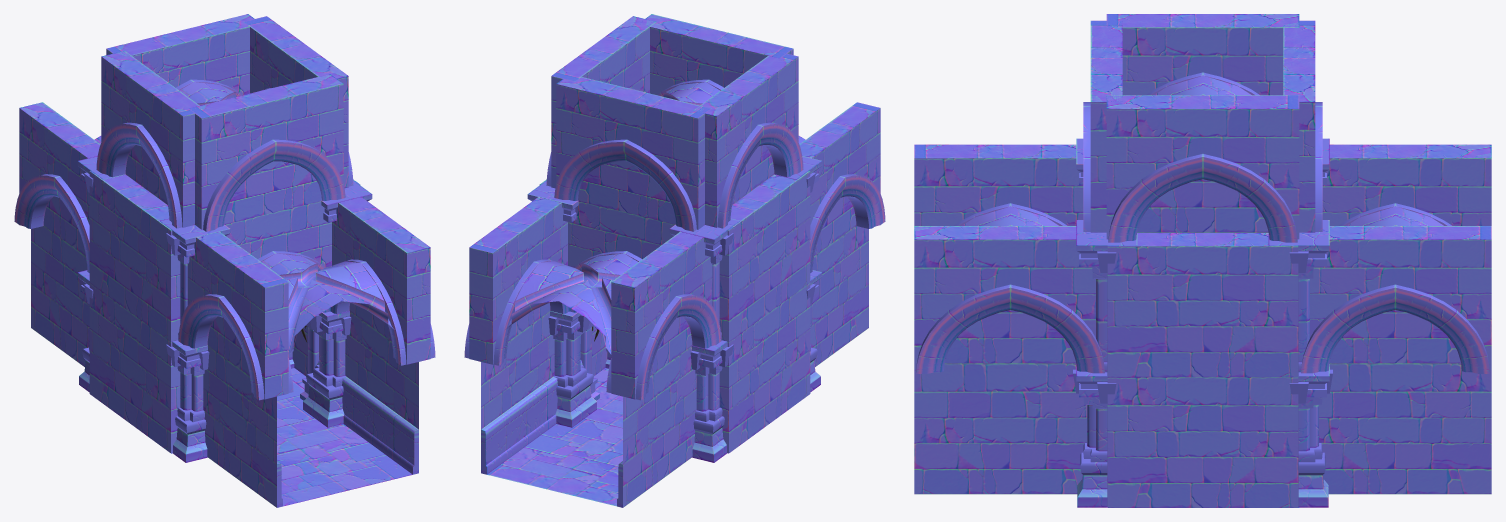
File: FP_Room_01.fbx
3 renders of one model, left to right at view 1: azimuth 30°, elevation 25°; view 2: azimuth 150°, elevation 25°; view 3: azimuth 270°, elevation 25°, orthographic. The views are drawn at different scales.
Visible parts, largest first — view 1: Wall_Niche_01, Arch_05, Arch_04__1_, Arch_04__2_, Arch_04__4_, FP_Wall_03, FP_Wall_03__2_, Arch_04, FP_Wall_03__1_, Floor_01__2_, Arch_05__1_, Ceiling_04 (+12 smaller); view 2: Wall_Niche_01, Arch_05__1_, Arch_04, Arch_04__2_, Arch_04__3_, FP_Wall_03__1_, FP_Wall_03__3_, Arch_04__1_, FP_Wall_03, Floor_01__1_, Arch_05, Ceiling_04__1_ (+12 smaller); view 3: Wall_Niche_01__1_, FP_Wall_03__2_, FP_Wall_03__3_, Arch_04__5_, Arch_04__3_, Arch_04__4_, Arch_04, Arch_04__1_, Arch_04__2_, Wall_03__1_, Arch_05, Arch_05__1_ (+9 smaller).
Boxes of the visible parts, bbox=[...] form: Wall_Niche_01: bbox=[89, 171, 180, 453]; Arch_05: bbox=[188, 74, 343, 312]; Arch_04__1_: bbox=[178, 231, 293, 400]; Arch_04__2_: bbox=[96, 51, 200, 228]; Arch_04__4_: bbox=[330, 197, 435, 365]; FP_Wall_03: bbox=[203, 316, 282, 507]; FP_Wall_03__2_: bbox=[342, 303, 418, 474]; Arch_04: bbox=[14, 102, 100, 272]; FP_Wall_03__1_: bbox=[31, 196, 89, 366]; Floor_01__2_: bbox=[277, 418, 412, 506]; Arch_05__1_: bbox=[106, 14, 255, 95]; Ceiling_04: bbox=[261, 253, 394, 354]; Wall_Niche_01: bbox=[719, 171, 810, 453]; Arch_05__1_: bbox=[556, 77, 711, 312]; Arch_04: bbox=[606, 231, 721, 400]; Arch_04__2_: bbox=[693, 52, 803, 228]; Arch_04__3_: bbox=[464, 197, 569, 365]; FP_Wall_03__1_: bbox=[617, 316, 696, 507]; FP_Wall_03__3_: bbox=[481, 303, 557, 474]; Arch_04__1_: bbox=[799, 102, 885, 272]; FP_Wall_03: bbox=[810, 196, 868, 366]; Floor_01__1_: bbox=[487, 418, 622, 506]; Arch_05: bbox=[641, 14, 793, 95]; Ceiling_04__1_: bbox=[505, 253, 638, 354]; Wall_Niche_01__1_: bbox=[1106, 233, 1299, 507]; FP_Wall_03__2_: bbox=[914, 310, 1086, 494]; FP_Wall_03__3_: bbox=[1319, 310, 1491, 494]; Arch_04__5_: bbox=[1106, 95, 1299, 242]; Arch_04__3_: bbox=[1301, 226, 1491, 373]; Arch_04__4_: bbox=[914, 226, 1104, 373]; Arch_04: bbox=[1322, 144, 1491, 225]; Arch_04__1_: bbox=[914, 144, 1083, 225]; Arch_04__2_: bbox=[1106, 14, 1299, 95]; Wall_03__1_: bbox=[1137, 179, 1268, 232]; Arch_05: bbox=[1090, 20, 1122, 232]; Arch_05__1_: bbox=[1283, 20, 1315, 232].
Size of what is drawn, in the model's own units: 540 by 950 by 1200.
